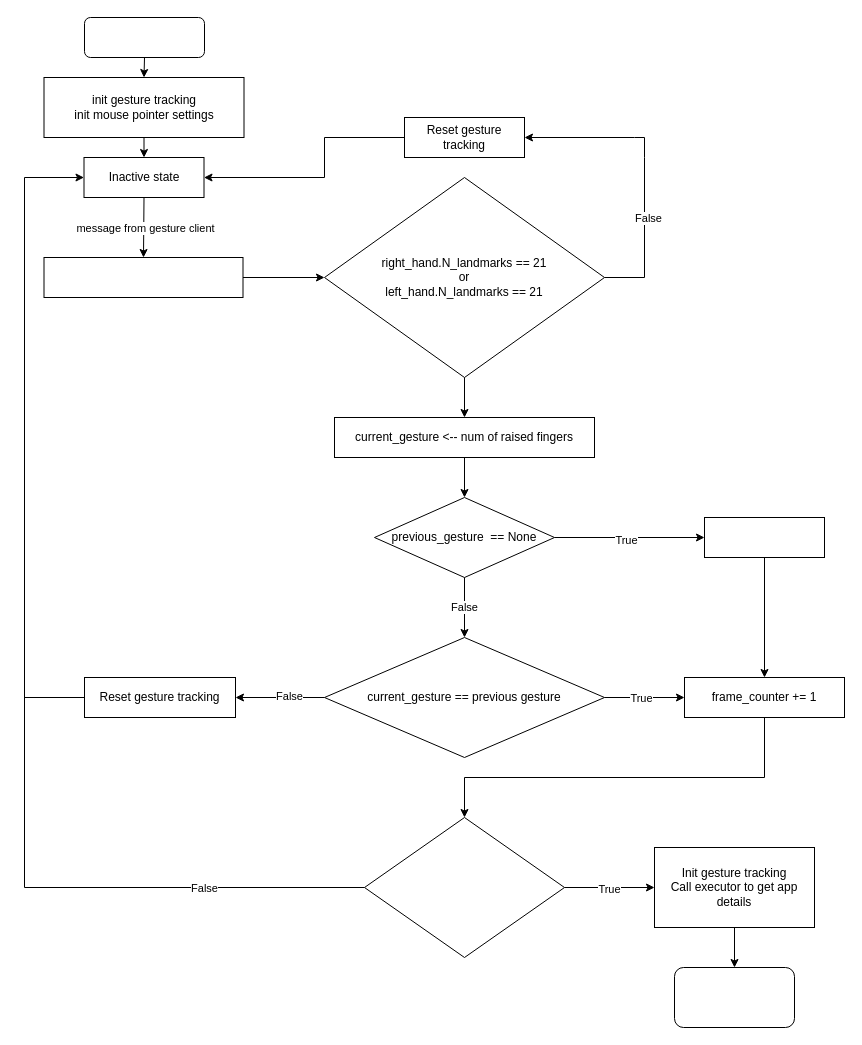
The diagram is 862 pixels wide and 1045 high, and some of its shapes have lost their labels. Each missing label, with the box of its shape:
frame_counter == sensitivity: (364, 816, 564, 958)
Process key points: (43, 256, 243, 298)
set gesture: (704, 516, 824, 558)
START: (84, 16, 204, 58)
Switch to await user prompt state: (674, 966, 794, 1028)
